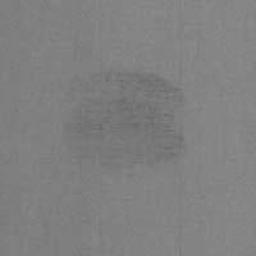Oil spot: (56, 68, 202, 186)
